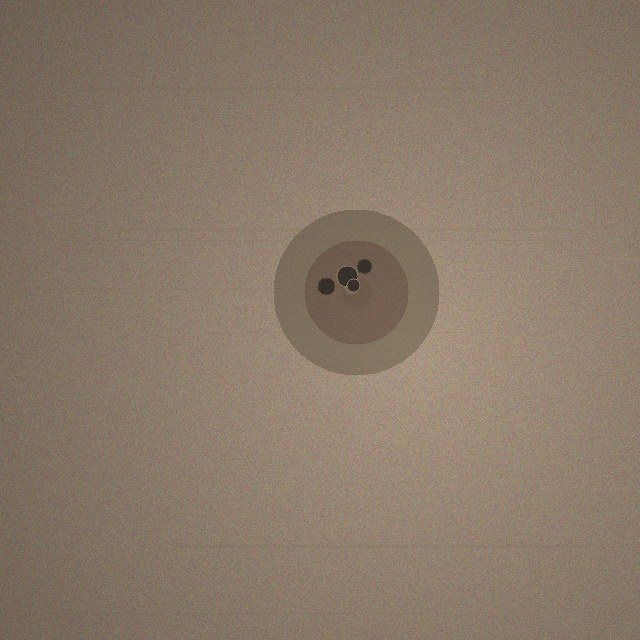shrinkage: (273, 209, 439, 375)
